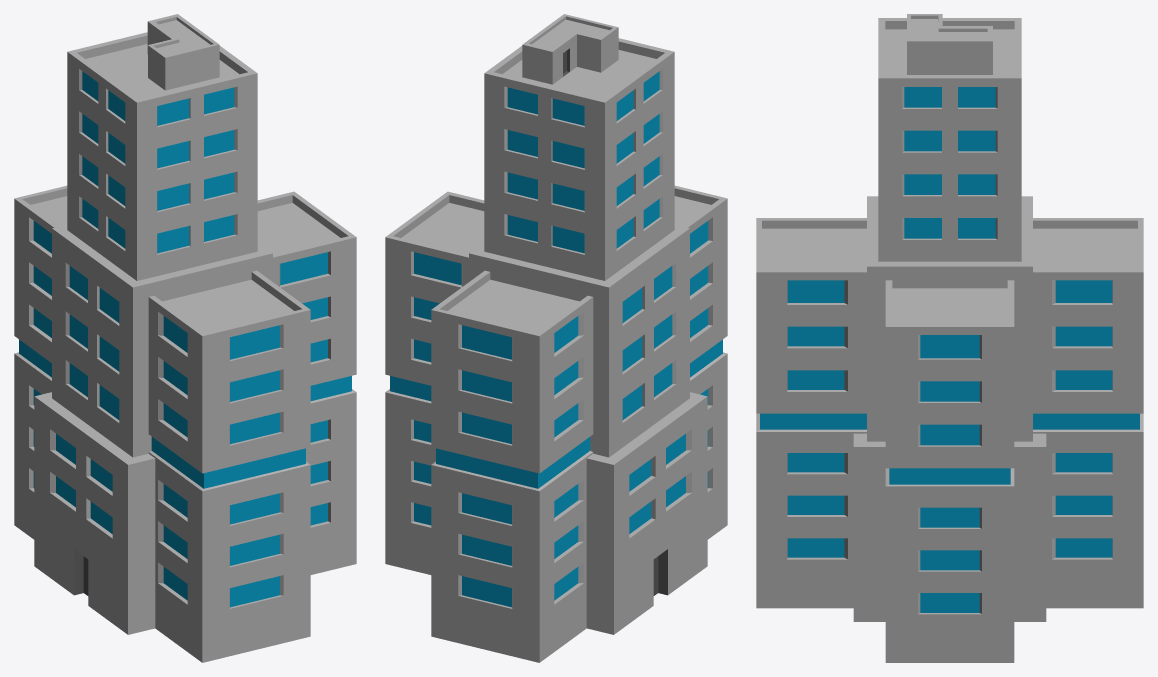
The model's file is bigHouseVillage.fbx.
The picture shows the model from 3 angles, left to right: view 1: azimuth 30°, elevation 25°; view 2: azimuth 150°, elevation 25°; view 3: azimuth 270°, elevation 25°; orthographic projection. The views are drawn at different scales.
Visible parts, largest first — view 1: BigHouse; view 2: BigHouse; view 3: BigHouse.
Part boxes in pixels (box(x1,y1,x2,y2)): BigHouse: box(14, 14, 356, 662); BigHouse: box(385, 14, 727, 662); BigHouse: box(756, 14, 1143, 662).
Bounding box in the file's own units: 451 × 958 × 602.
